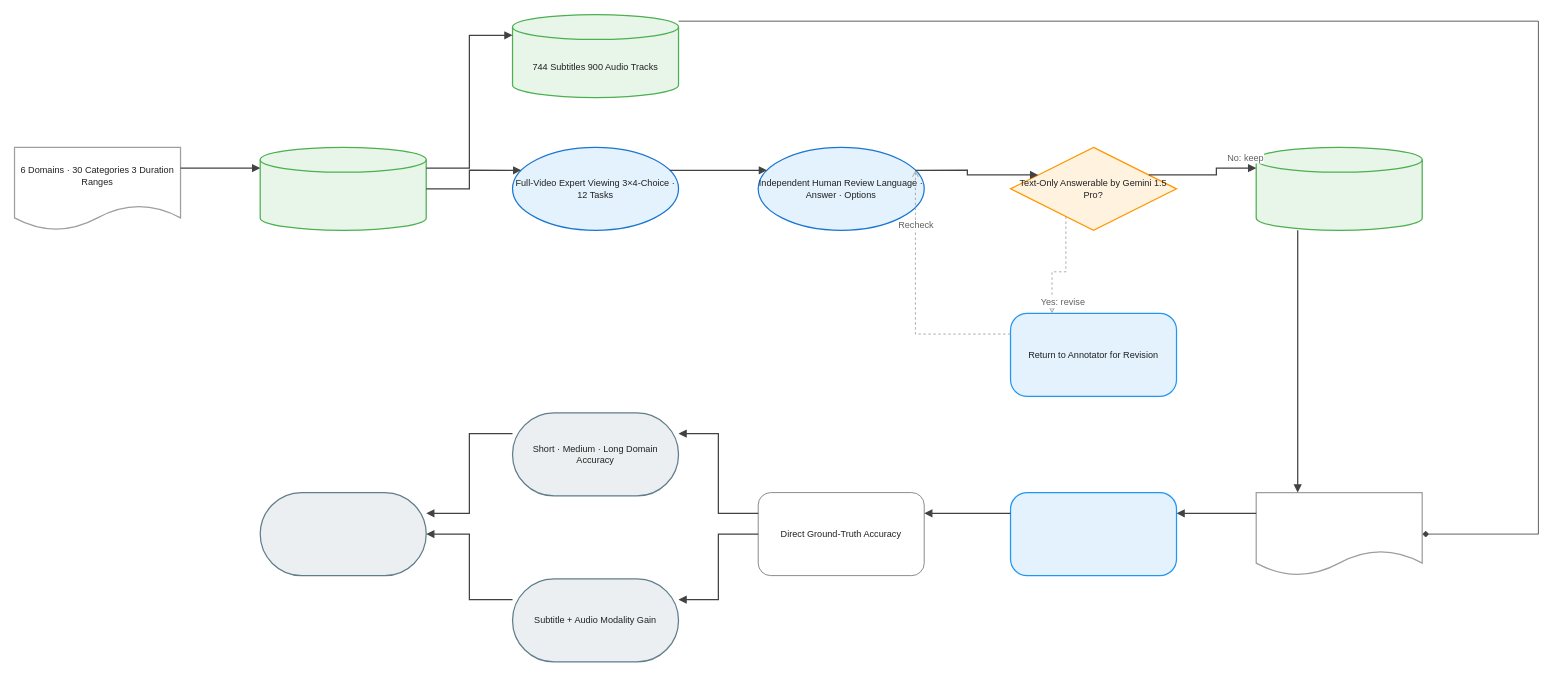
The diagram is 1560 pixels wide and 677 high, and some of its shapes have lost their labels. Here are the shapes that lost their labels. From the top down, the centre of each, then its label:
At point 342,188: "900 YouTube Videos Short / Medium / Long".
At point 1338,188: "2,700 QA Pairs".
At point 342,534: "Video-MME Results".
At point 1093,534: "Parse A / B / C / D".
At point 1338,534: "Frames / +Subtitles / +Audio".
